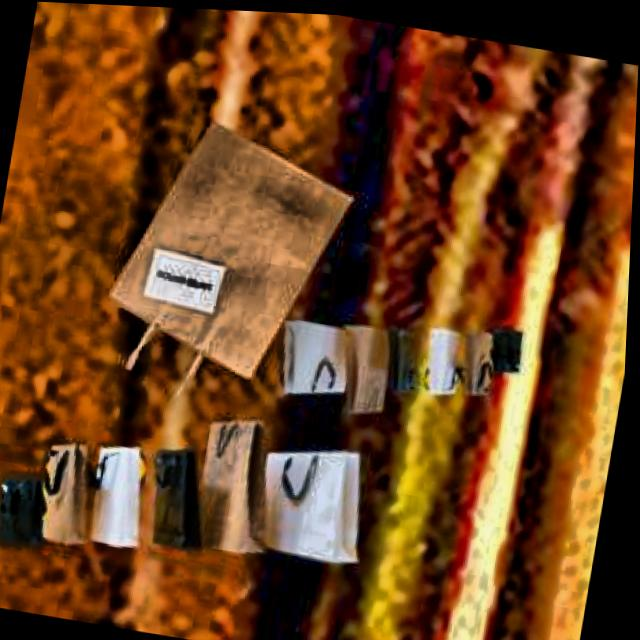Paper-bag: (0, 369, 396, 608), (86, 93, 355, 425), (274, 268, 557, 440)
